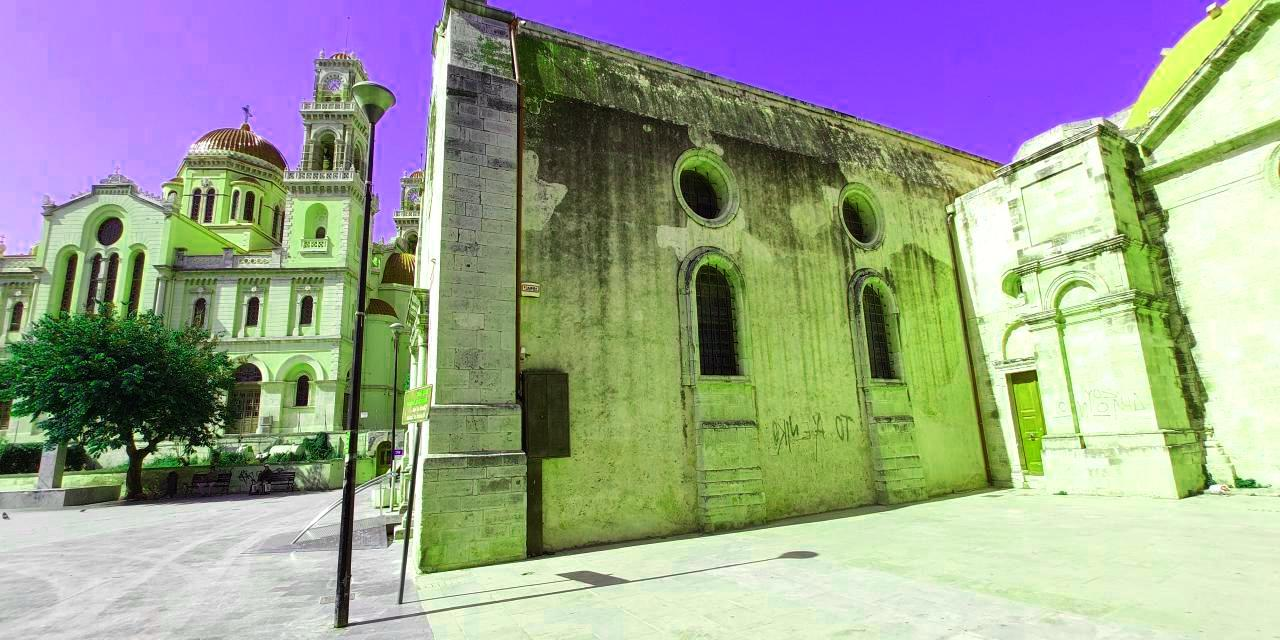Agia Aikaterini: (407, 1, 1280, 582)
